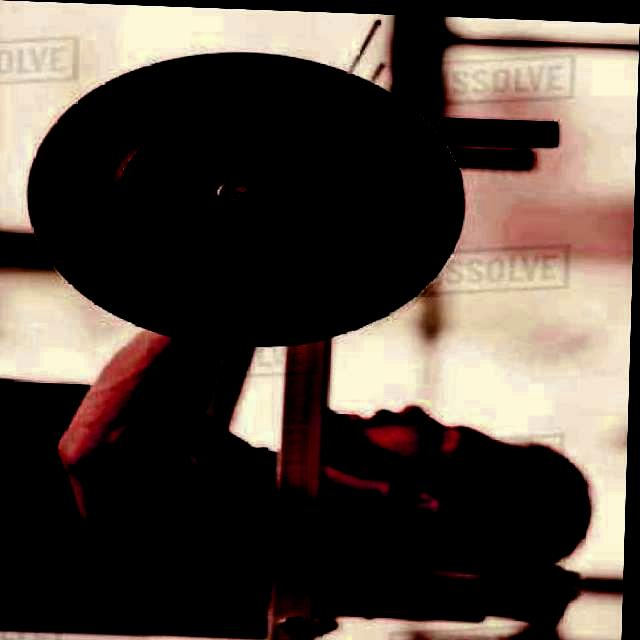barbell: (17, 46, 477, 364)
